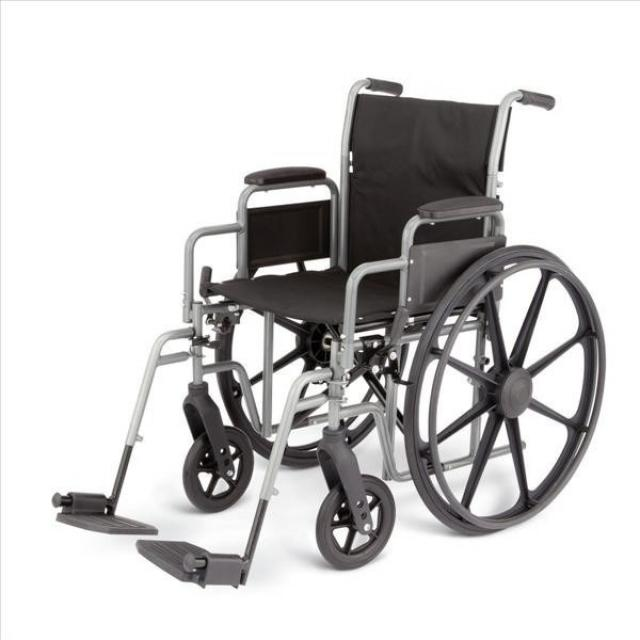wheelchair: (47, 64, 627, 597)
